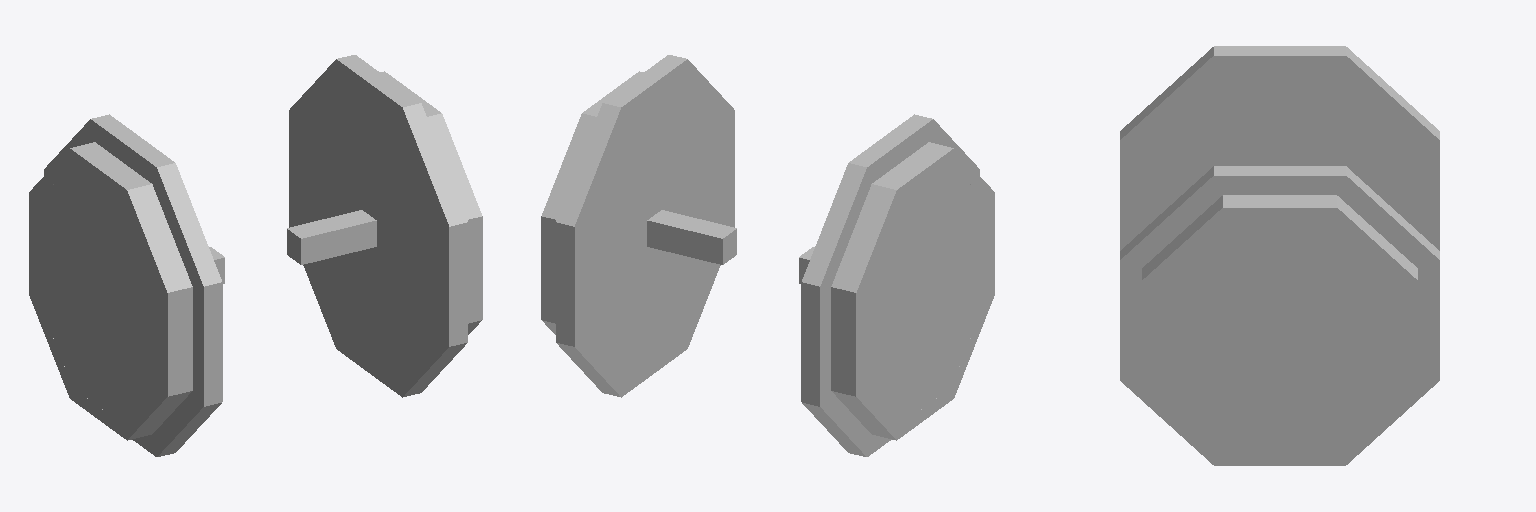
File: wheels.obj
3 renders of one model, left to right at view 1: azimuth 30°, elevation 25°; view 2: azimuth 150°, elevation 25°; view 3: azimuth 270°, elevation 25°, orthographic.
Visible parts, largest first — view 1: cylinder_3, cylinder_5, cylinder_1, cylinder_0, cylinder_2, cube_1; view 2: cylinder_3, cylinder_5, cylinder_1, cylinder_0, cylinder_2, cube_1; view 3: cylinder_4, cylinder_0, cylinder_3, cylinder_2.
Part boxes in pixels (x1,y1,x2,y2): cylinder_3: (289,55,467,397); cylinder_5: (37,164,159,424); cylinder_1: (29,142,192,440); cylinder_0: (44,114,222,456); cylinder_2: (380,71,482,334); cube_1: (287,210,376,264); cylinder_3: (556,55,734,397); cylinder_5: (864,164,986,424); cylinder_1: (831,142,994,440); cylinder_0: (801,114,979,456); cylinder_2: (541,71,643,334); cube_1: (647,210,736,264); cylinder_4: (1156,221,1403,444); cylinder_0: (1120,46,1439,250); cylinder_3: (1120,166,1439,465); cylinder_2: (1142,195,1417,457).
Bounding box in the file's own units: 3.12 × 2.75 × 2.75.